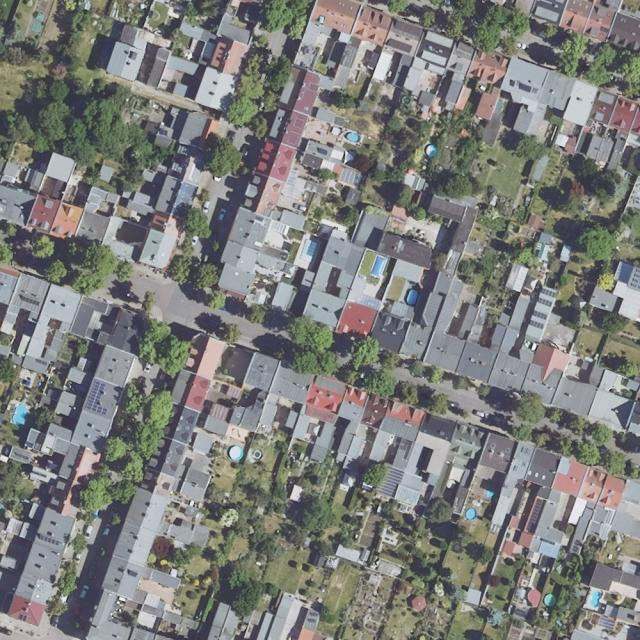PV: (86, 379, 109, 415), (526, 497, 544, 532), (597, 617, 616, 630), (631, 267, 640, 291), (531, 310, 548, 320), (541, 287, 556, 298), (538, 297, 553, 306), (529, 321, 544, 328)
ST: (39, 534, 60, 546), (19, 614, 28, 622)
